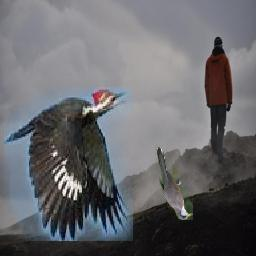Cuckoo: (155, 146, 193, 221)
Woodpecker: (5, 87, 134, 241)
